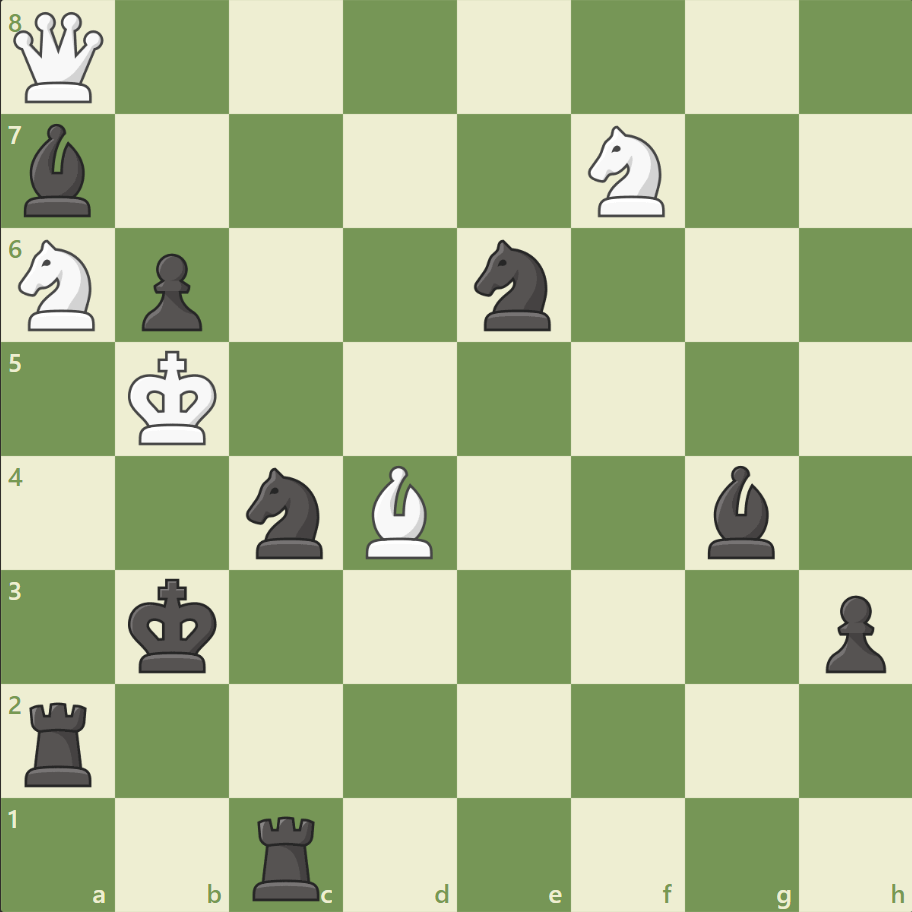B: (358, 460, 442, 563)
K: (124, 344, 224, 452)
N: (11, 234, 108, 337), (579, 121, 676, 223)
Q: (10, 9, 109, 108)
b: (698, 460, 782, 563), (17, 120, 101, 222)
k: (124, 571, 224, 679)
n: (465, 234, 562, 337), (238, 461, 335, 564)
p: (133, 246, 208, 337), (815, 586, 889, 677)
r: (246, 806, 329, 904), (19, 693, 102, 790)
